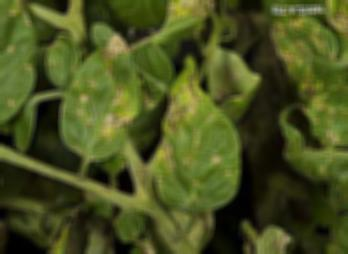Tomato Septoria leaf spot: (157, 49, 248, 213), (54, 33, 147, 160), (0, 0, 41, 139), (147, 0, 222, 49), (308, 75, 348, 152), (246, 220, 299, 254)
